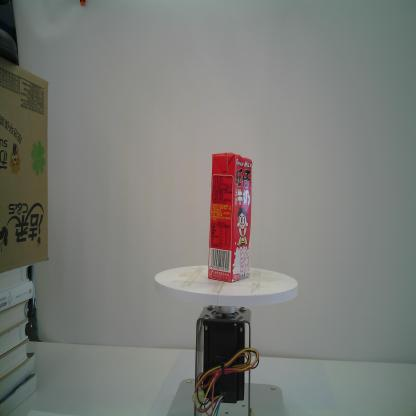Milk: (206, 149, 254, 286)
